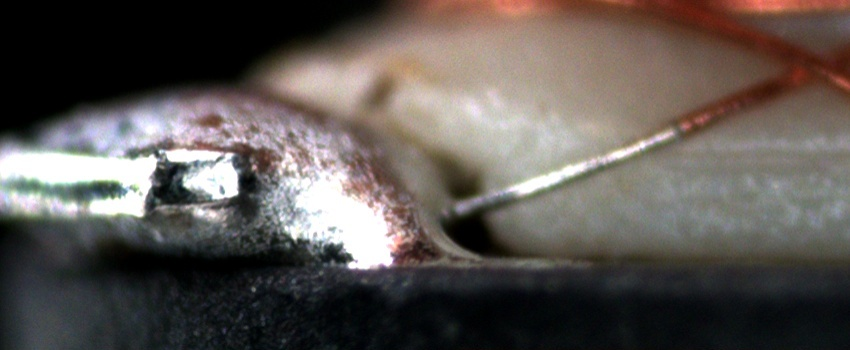CL: (767, 35, 842, 91)
DL: (661, 123, 850, 185)
TS: (447, 124, 681, 216)
